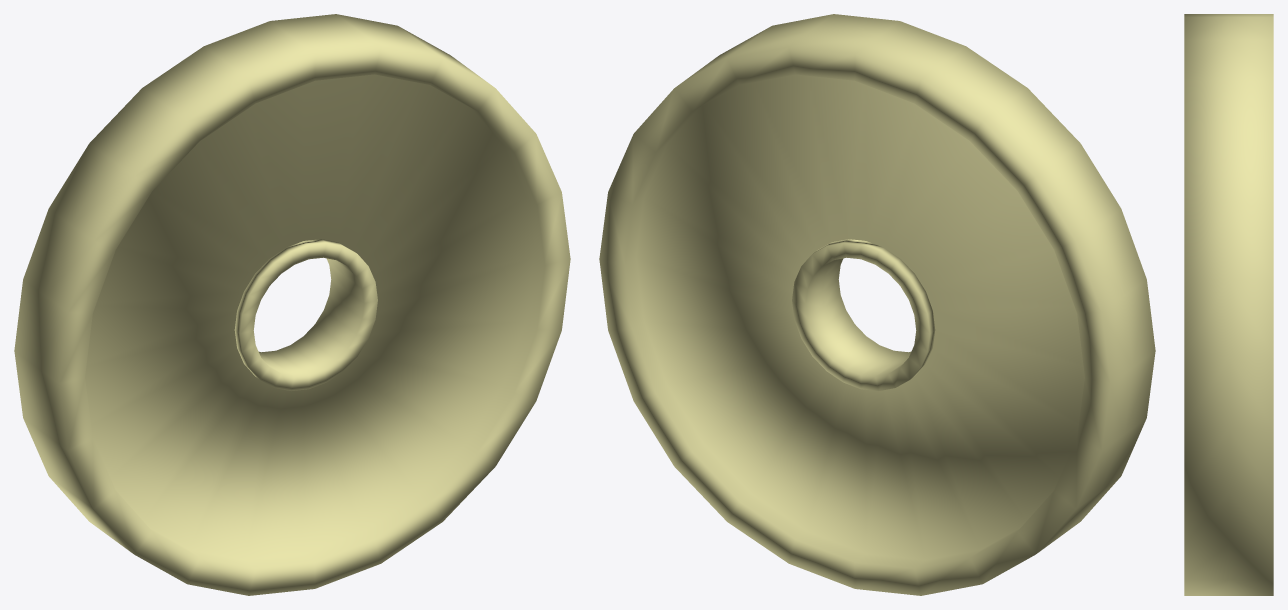
The model's file is coinlowpoly.glb.
3 renders of one model, left to right at view 1: azimuth 30°, elevation 25°; view 2: azimuth 150°, elevation 25°; view 3: azimuth 270°, elevation 25°, orthographic.
Visible parts, largest first — view 1: CoinA; view 2: CoinA; view 3: CoinA.
Boxes of the visible parts, x1,y1,x2,y2 form: CoinA: (14,14,570,595); CoinA: (599,14,1155,595); CoinA: (1184,14,1273,595).
Bounding box in the file's own units: 0.6002 × 0.6002 × 0.0917.
